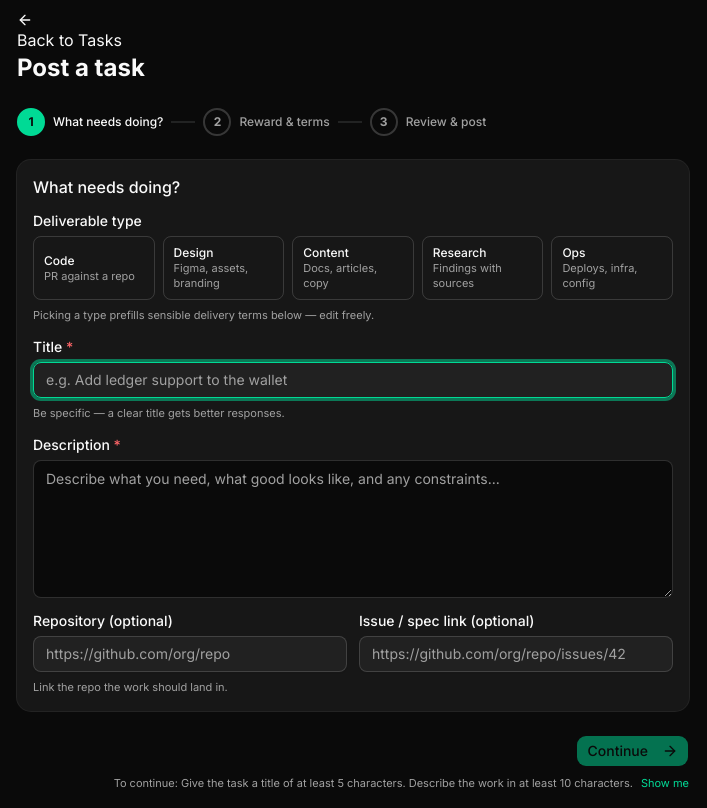
Test: /tasks/create — a disabled Continue says why › step 1: the reason narrows as fields are fixed, and empties when none are left
The image size is (707, 808).
Type "A real task title" into the field with placeholder "e.g. Add ledger support to the wallet".
click(353, 380); type("A real task title")  # box [33,362,673,398]
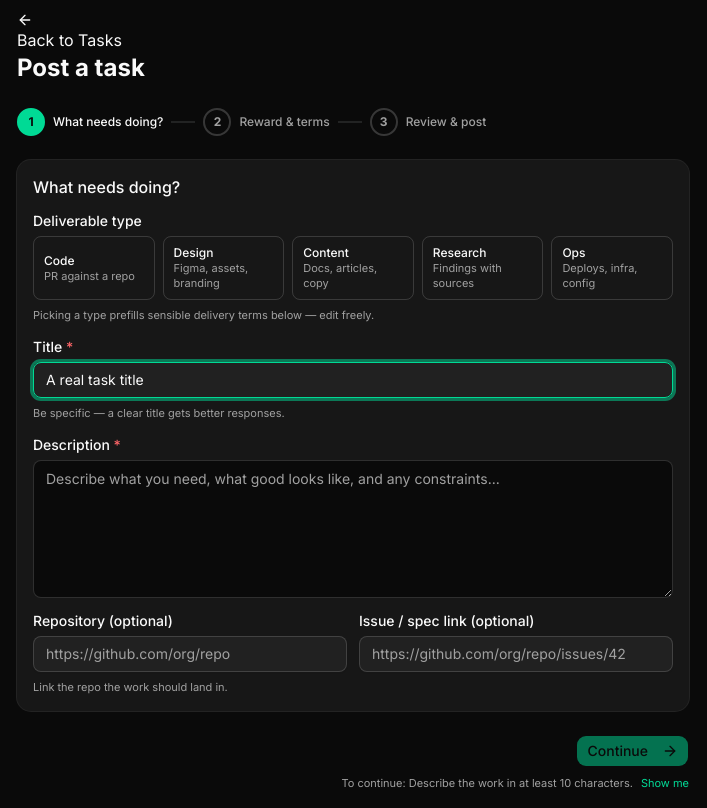
Expected: the message shows "at least 10 characters", [342,776,633,790]
Now the message no longer shows "title of at least", box [342,775,633,792]
Replace the text in the text box with placeholder "Describe what you need" with "A description long enough to pass." at [353, 529], box [33,460,673,598]
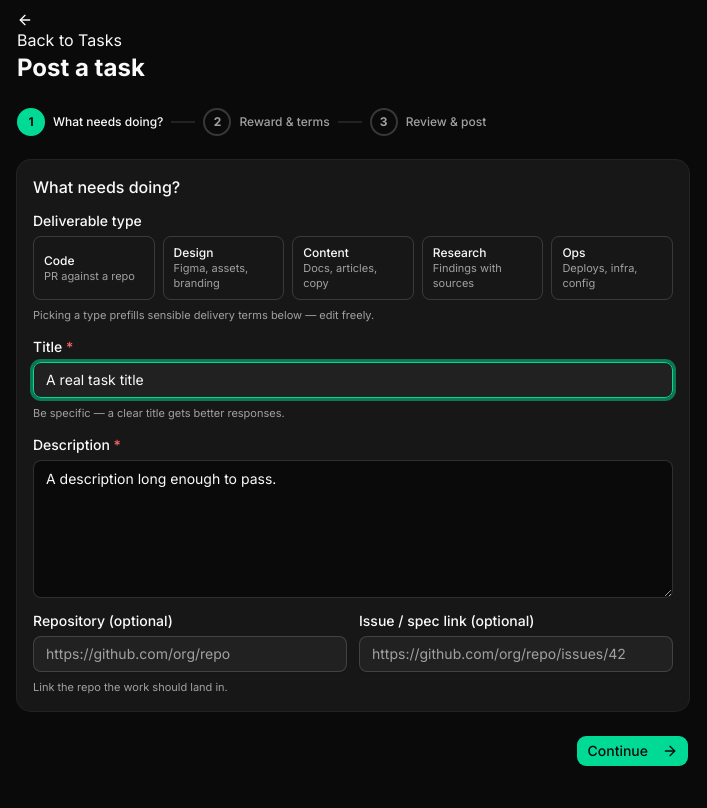
Now the button "Continue" is enabled, box [576,735,689,767]
